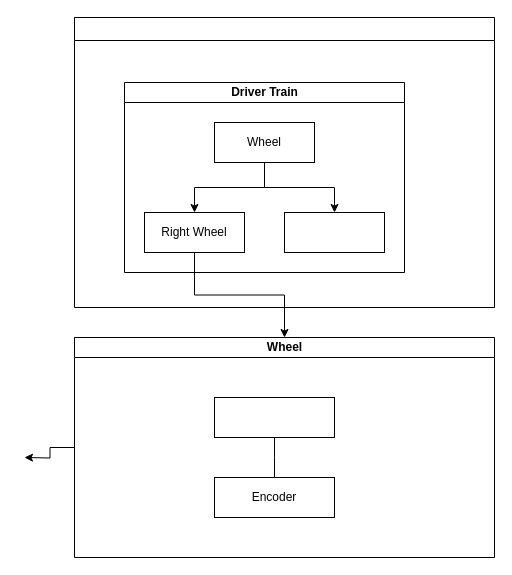
Image size: 512x575. Some labels were removed from this diagram. Here are the shapes that lost their labels. From the top down, the box of each, then its label:
(74, 16, 494, 308): Two Wheel Robot
(284, 212, 384, 252): Left Wheel
(214, 396, 334, 438): DC Motor
